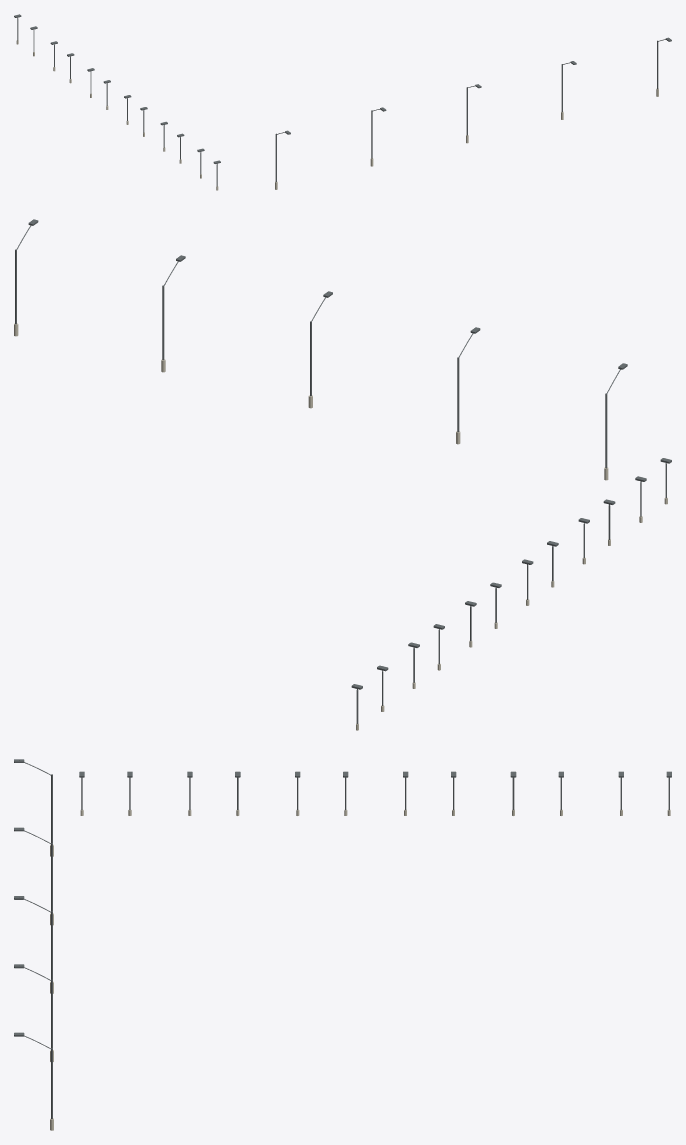
3 views of the same model, one above another, from view 1: azimuth 30°, elevation 25°; view 2: azimuth 150°, elevation 25°; view 3: azimuth 270°, elevation 25° (orthographic). The views are drawn at different scales.
Parts seen in each view (by area): view 1: buildings_s_-7_0_Dark_Metal, buildings_s_-7_0_Warm_Limestone; view 2: buildings_s_-7_0_Dark_Metal; view 3: buildings_s_-7_0_Dark_Metal.
Part boxes in pixels (x1,y1,x2,y2): buildings_s_-7_0_Dark_Metal: [14, 14, 671, 186]; buildings_s_-7_0_Warm_Limestone: [16, 40, 658, 190]; buildings_s_-7_0_Dark_Metal: [15, 219, 671, 724]; buildings_s_-7_0_Dark_Metal: [14, 759, 671, 1119].
Size of the model in its own units: 123 by 17.75 by 110.
